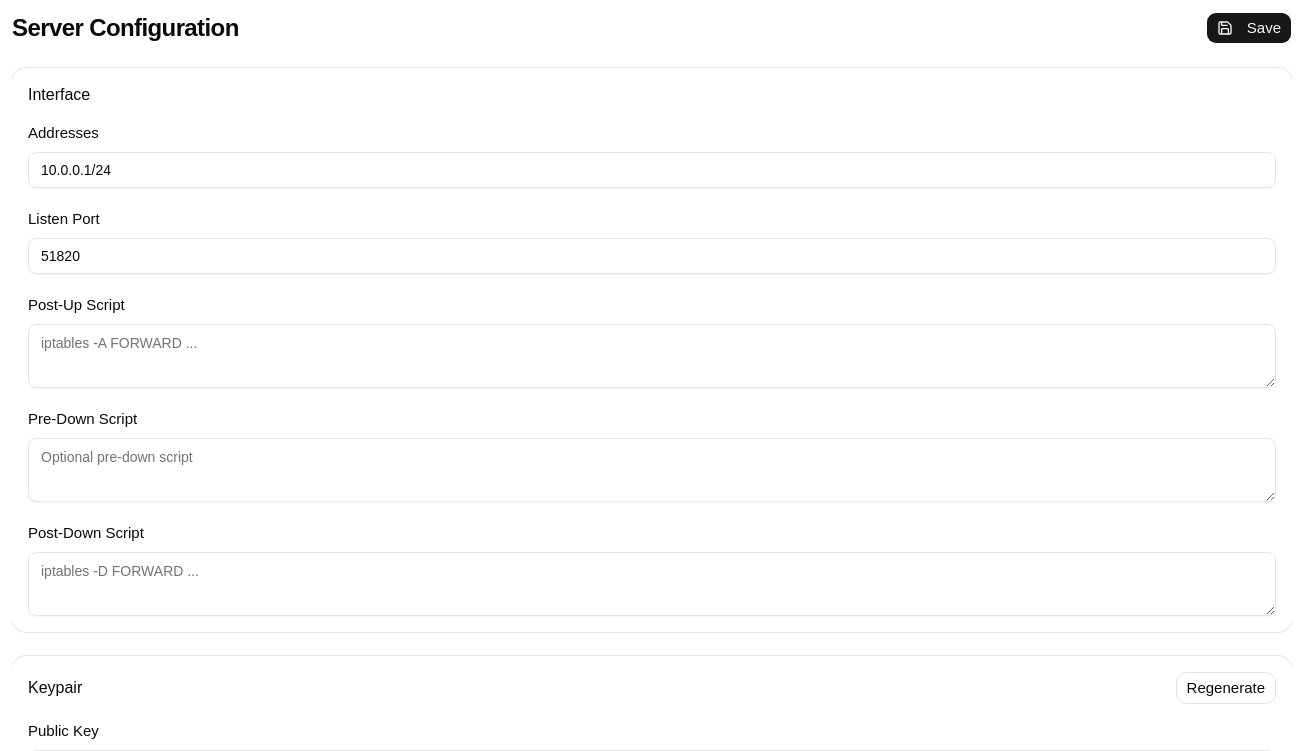
Test: ServerPage interactions › shows validation error for empty addresses
Clear the field named "Server addresses" at (652, 170), box [28,152,1276,188]
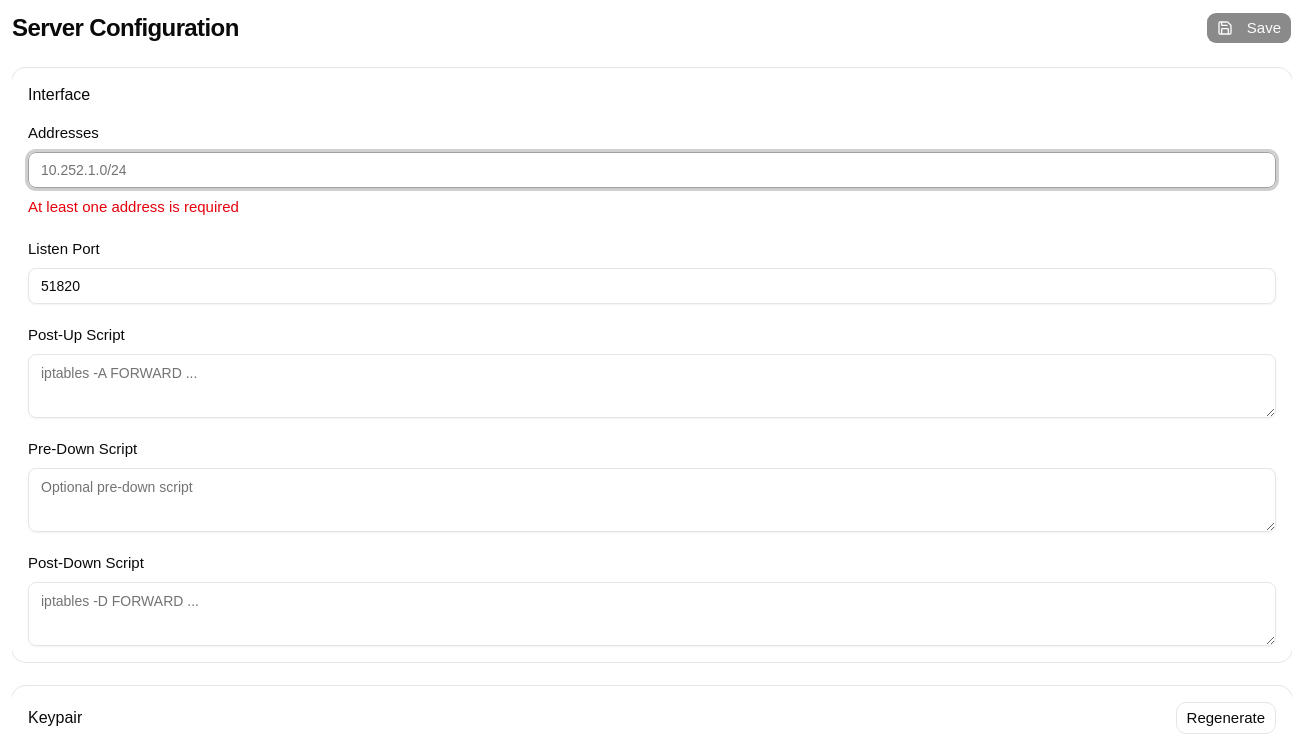
Expected: the text "At least one address is required" is shown, [28,198,239,215]
